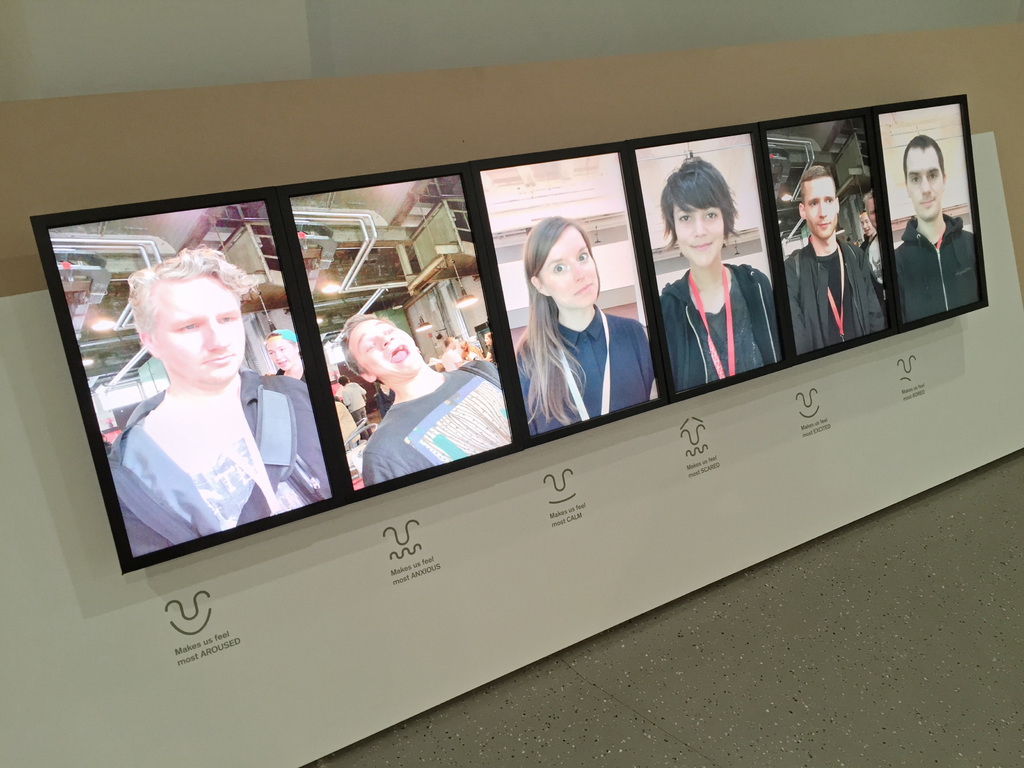Human-face: (146, 270, 245, 385), (536, 225, 593, 311), (349, 321, 425, 383), (671, 195, 724, 265), (908, 146, 946, 218), (804, 177, 838, 237)
